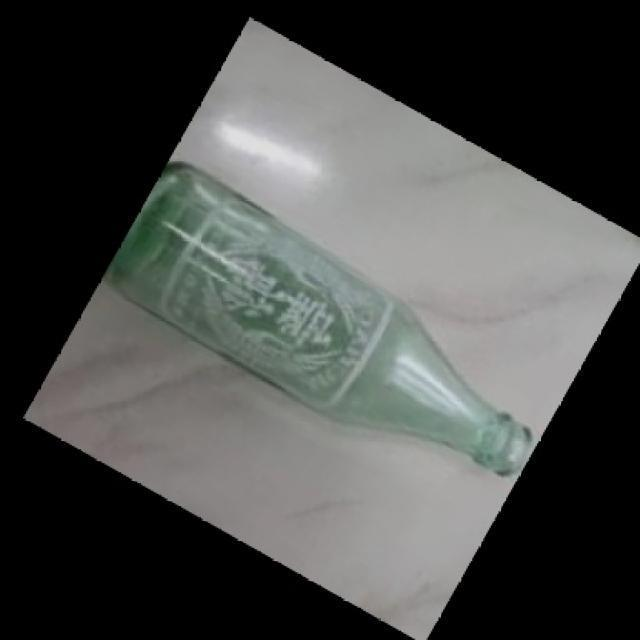Glass: (100, 158, 533, 479)
